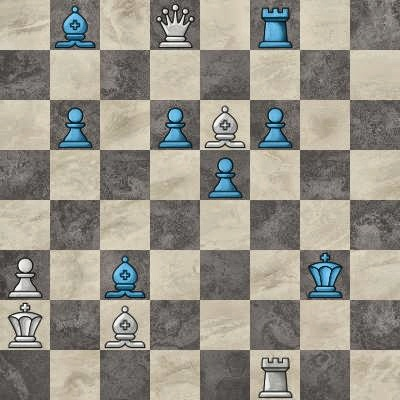black-bishop: (50, 0, 100, 50), (100, 250, 150, 300)
black-king: (300, 250, 350, 300)
black-pawn: (50, 100, 100, 150), (150, 100, 200, 150), (250, 100, 300, 150), (200, 150, 250, 200)
black-rook: (250, 0, 300, 50)
white-bishop: (200, 100, 250, 150), (100, 300, 150, 350)
white-king: (0, 300, 50, 350)
white-pawn: (0, 250, 50, 300)
white-queen: (150, 0, 200, 50)
white-rook: (250, 350, 300, 400)
